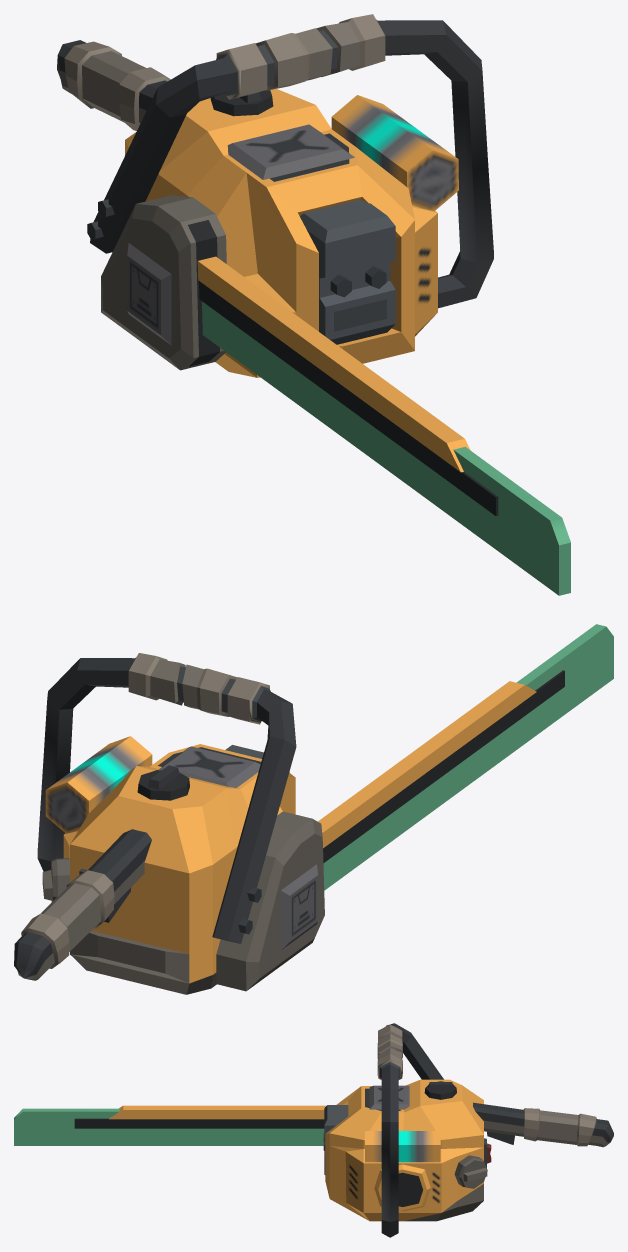
The model's file is SM_Prop_Tool_Chainsaw_Neon_01.fbx.
The picture shows the model from 3 angles, top to bottom: view 1: azimuth 30°, elevation 25°; view 2: azimuth 150°, elevation 25°; view 3: azimuth 270°, elevation 25°; orthographic projection. The views are drawn at different scales.
Visible parts, largest first — view 1: SM_Prop_Tool_Chainsaw_Neon_01; view 2: SM_Prop_Tool_Chainsaw_Neon_01; view 3: SM_Prop_Tool_Chainsaw_Neon_01.
Part boxes in pixels (x1,y1,x2,y2): SM_Prop_Tool_Chainsaw_Neon_01: (57, 14, 570, 595); SM_Prop_Tool_Chainsaw_Neon_01: (14, 624, 613, 994); SM_Prop_Tool_Chainsaw_Neon_01: (14, 1023, 613, 1237).
Bounding box in the file's own units: 35 × 31.55 × 109.
